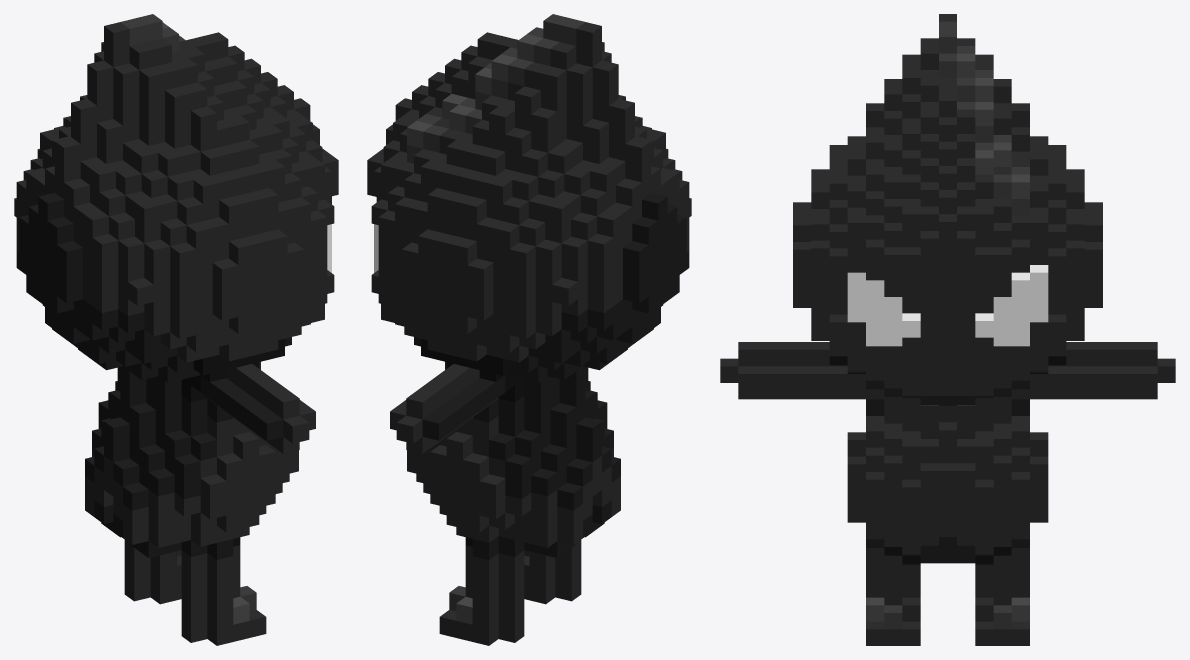
Rendered from Base Mascaras.obj.
3 renders of one model, left to right at view 1: azimuth 30°, elevation 25°; view 2: azimuth 150°, elevation 25°; view 3: azimuth 270°, elevation 25°, orthographic. The views are drawn at different scales.
Size of the model in its own units: 1.6 by 3.5 by 2.5.
Materials: 1 (1 with a texture image).
